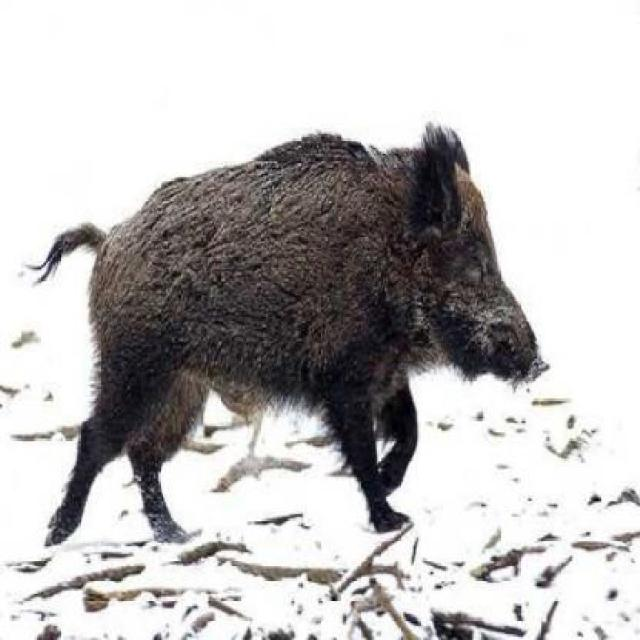Boar: (43, 103, 552, 542)
